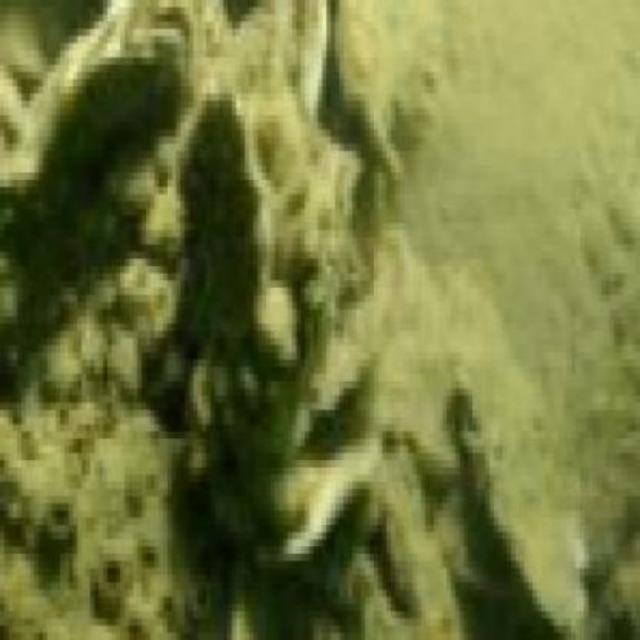Oyster-Closed: (258, 451, 385, 570)
Oyster-Open: (179, 96, 331, 495), (8, 4, 190, 191)
